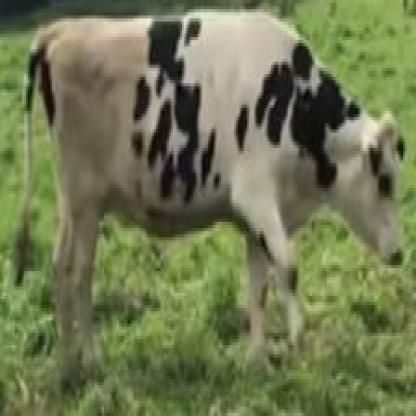cow: (13, 12, 407, 367)
